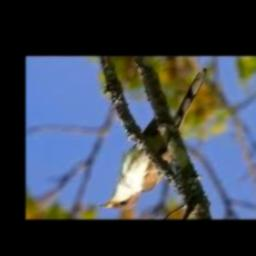Cuckoo: (98, 68, 206, 210)
